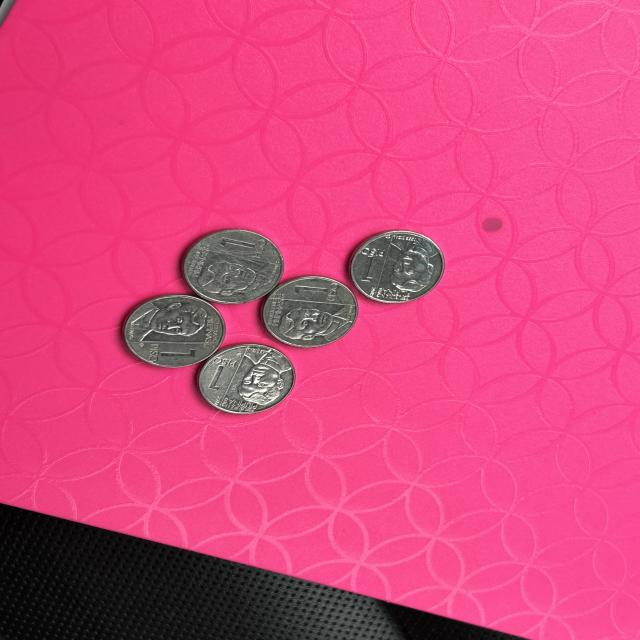1_New_Front: (143, 342, 200, 368), (216, 235, 268, 262), (291, 279, 339, 304), (210, 353, 236, 395), (357, 242, 377, 286)
